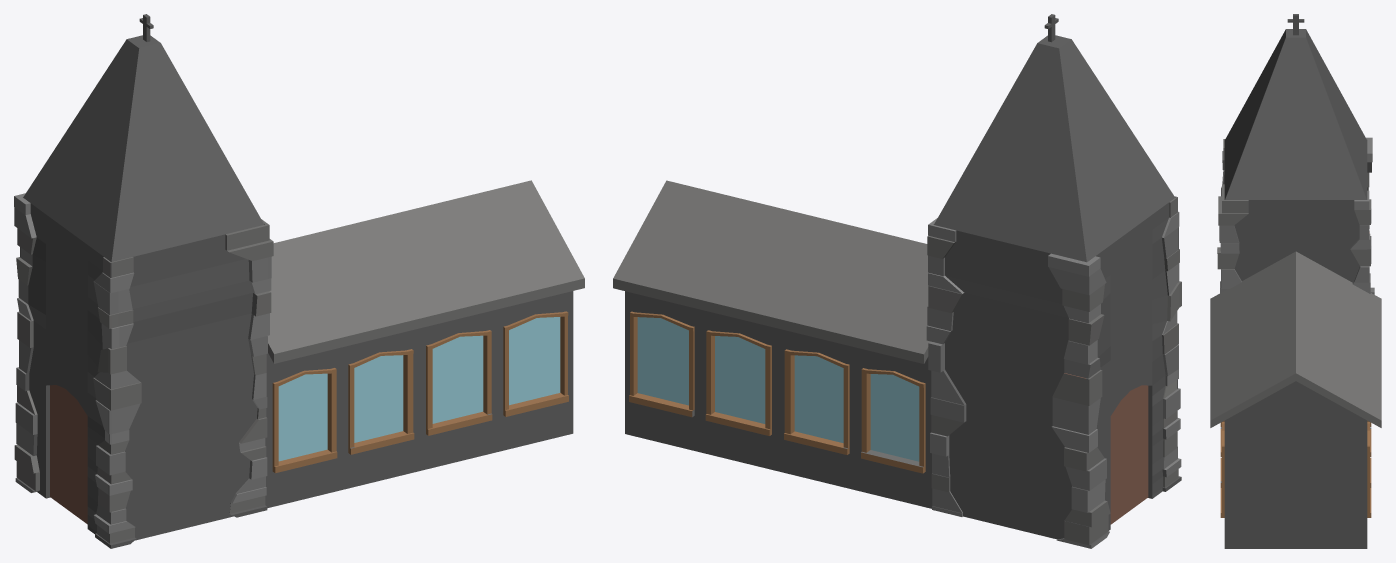
3 views of the same model, side by side, from view 1: azimuth 30°, elevation 25°; view 2: azimuth 150°, elevation 25°; view 3: azimuth 270°, elevation 25° (orthographic). The views are drawn at different scales.
Visible parts, largest first — view 1: Church; view 2: Church; view 3: Church.
Boxes of the visible parts, x1=… form: Church: x1=14, y1=14, x2=584, y2=548; Church: x1=613, y1=14, x2=1181, y2=548; Church: x1=1210, y1=14, x2=1381, y2=548.
Bounding box in the file's own units: 612 × 594 × 240.
